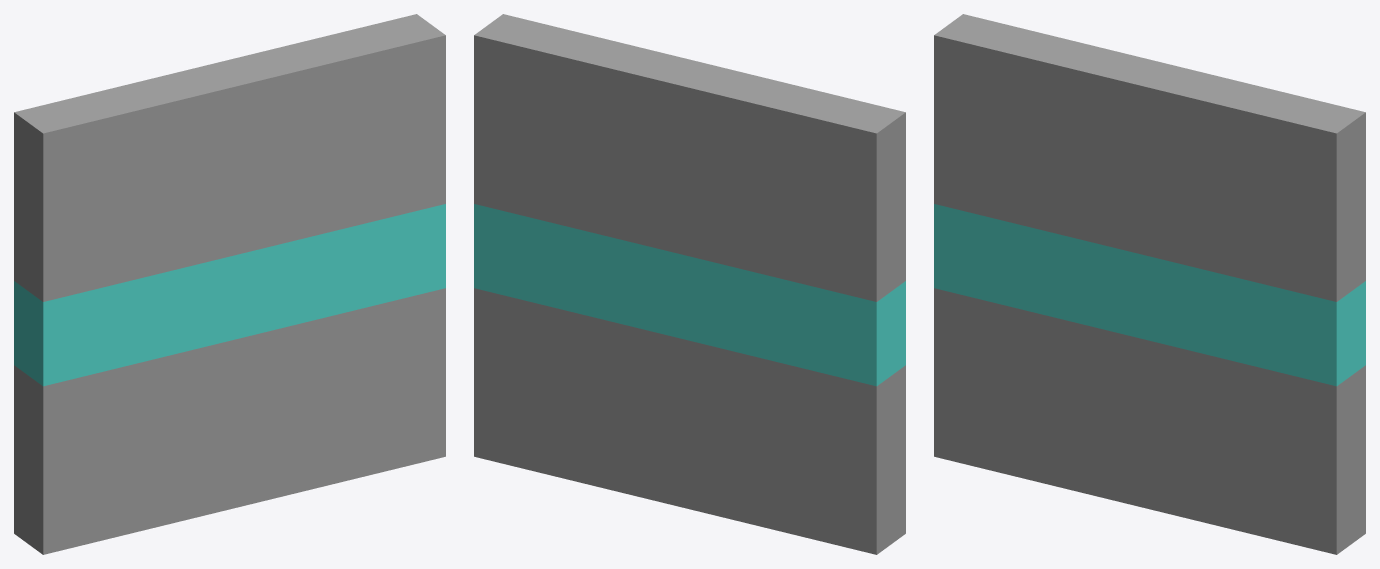
File: 8x8 Wall Glow Mesh.fbx
3 renders of one model, left to right at view 1: azimuth 30°, elevation 25°; view 2: azimuth 150°, elevation 25°; view 3: azimuth 330°, elevation 25°, orthographic.
Visible parts, largest first — view 1: polySurface12; view 2: polySurface12; view 3: polySurface12.
Part boxes in pixels (x1,y1,x2,y2): polySurface12: [14, 14, 445, 554]; polySurface12: [474, 14, 905, 554]; polySurface12: [934, 14, 1365, 554].
Size of the model in its own units: 800 by 800 by 100.
